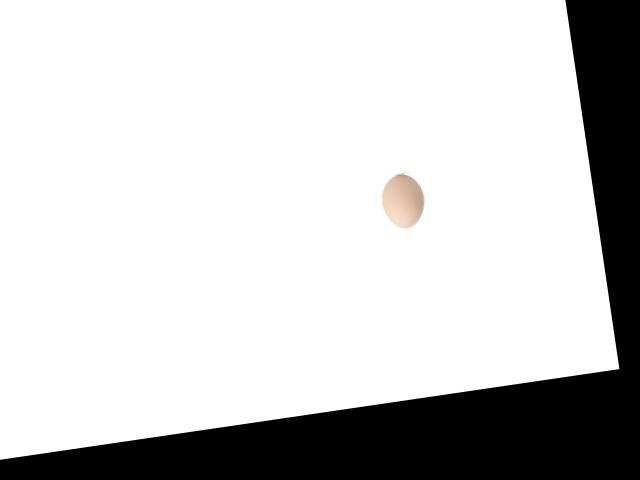egg: (379, 170, 428, 230)
